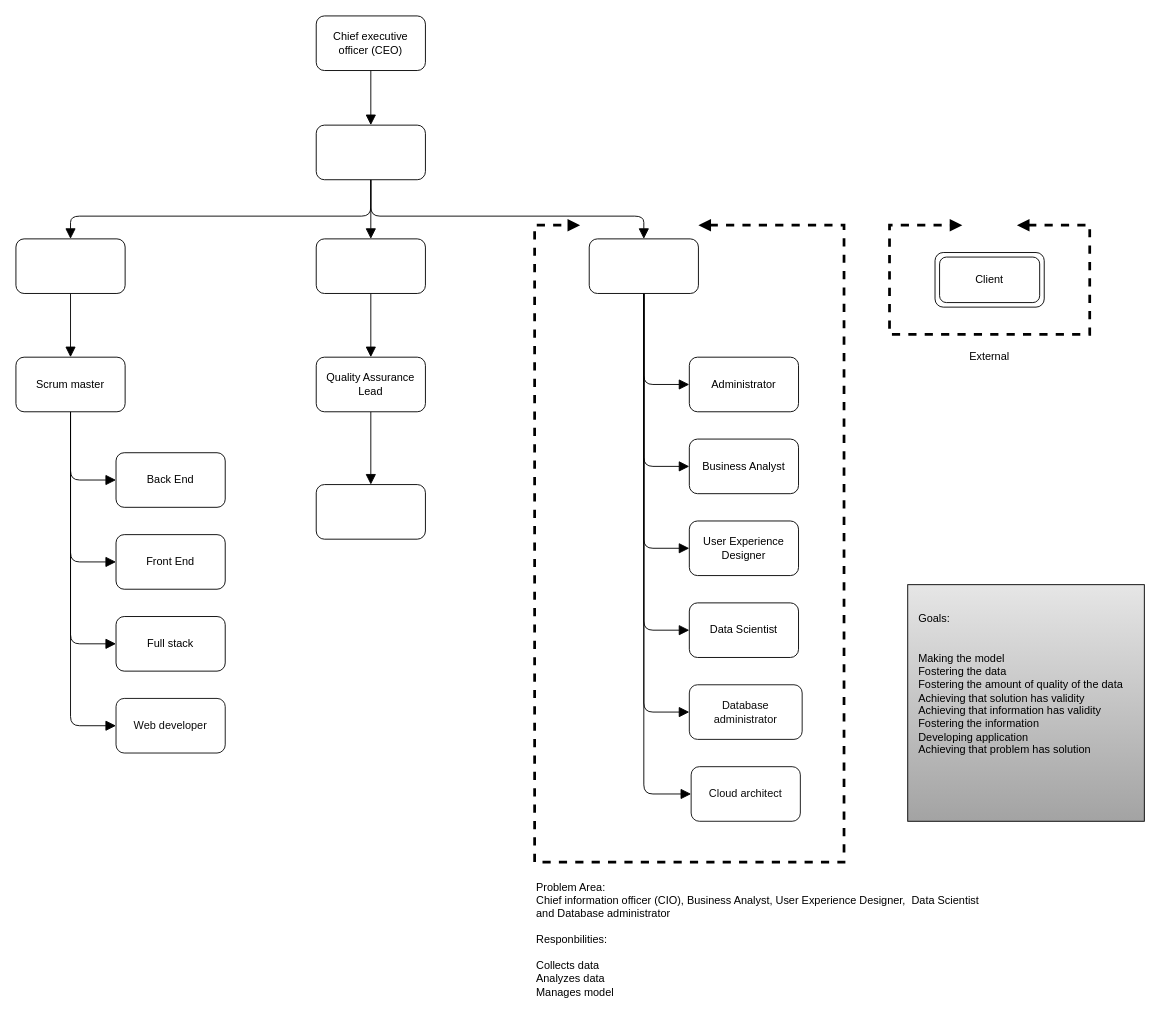
This 1160x1015 diagram has some shape labels left out. The shapes that lost their labels are listed below. From the top down, each one's centre as x and y in pixels, then its label:
At (x=370, y=152): "Chief Technology Officer (CTO)".
At (x=70, y=265): "Product owner".
At (x=370, y=265): "Developing and programming manager".
At (x=643, y=265): "Chief information officer (CIO)".
At (x=370, y=511): "Quality Assurance Tester".
